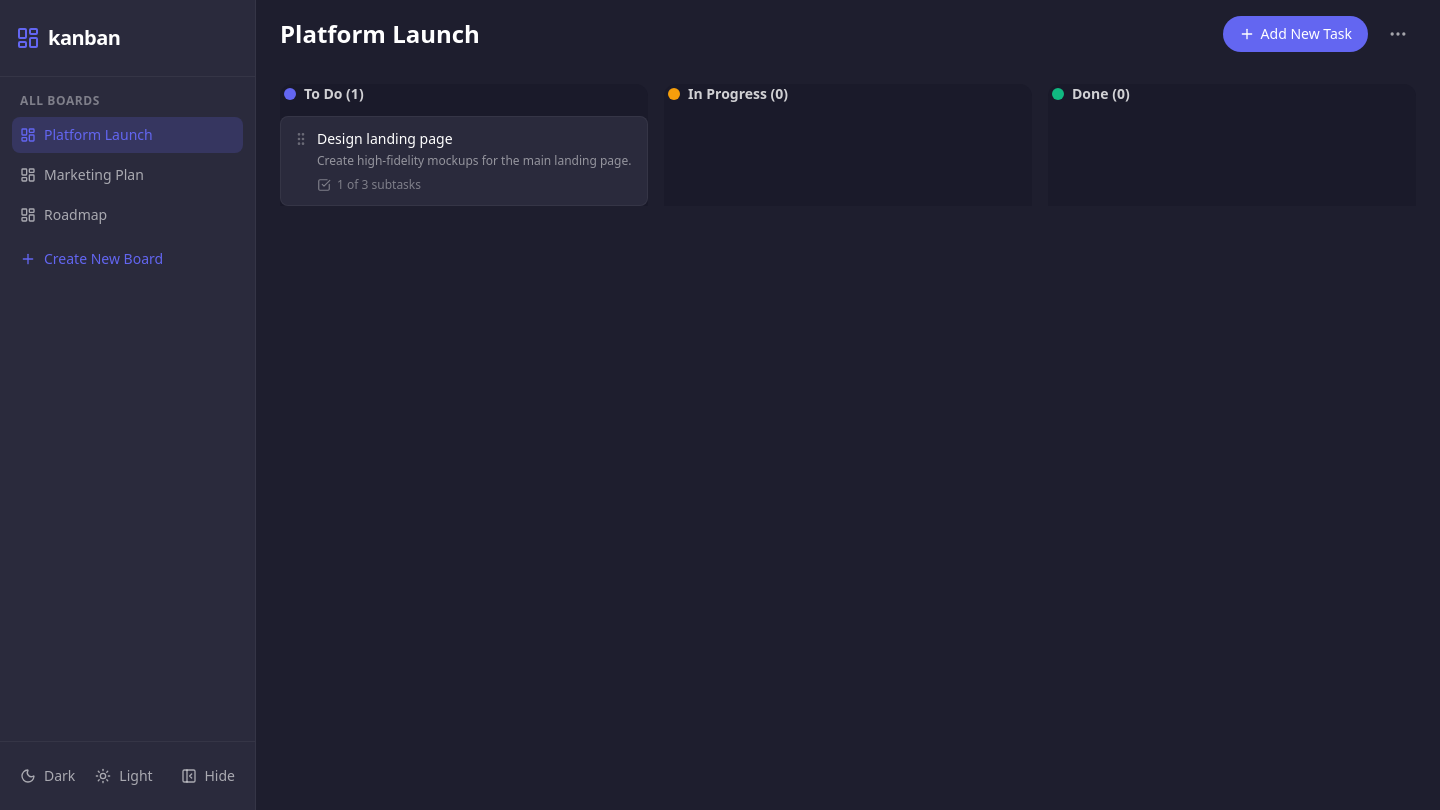
it: App › switches boards when clicked
The width and height of the screenshot is (1440, 810).
Click the button "Marketing Plan" at (128, 175), box [12,157,243,193]
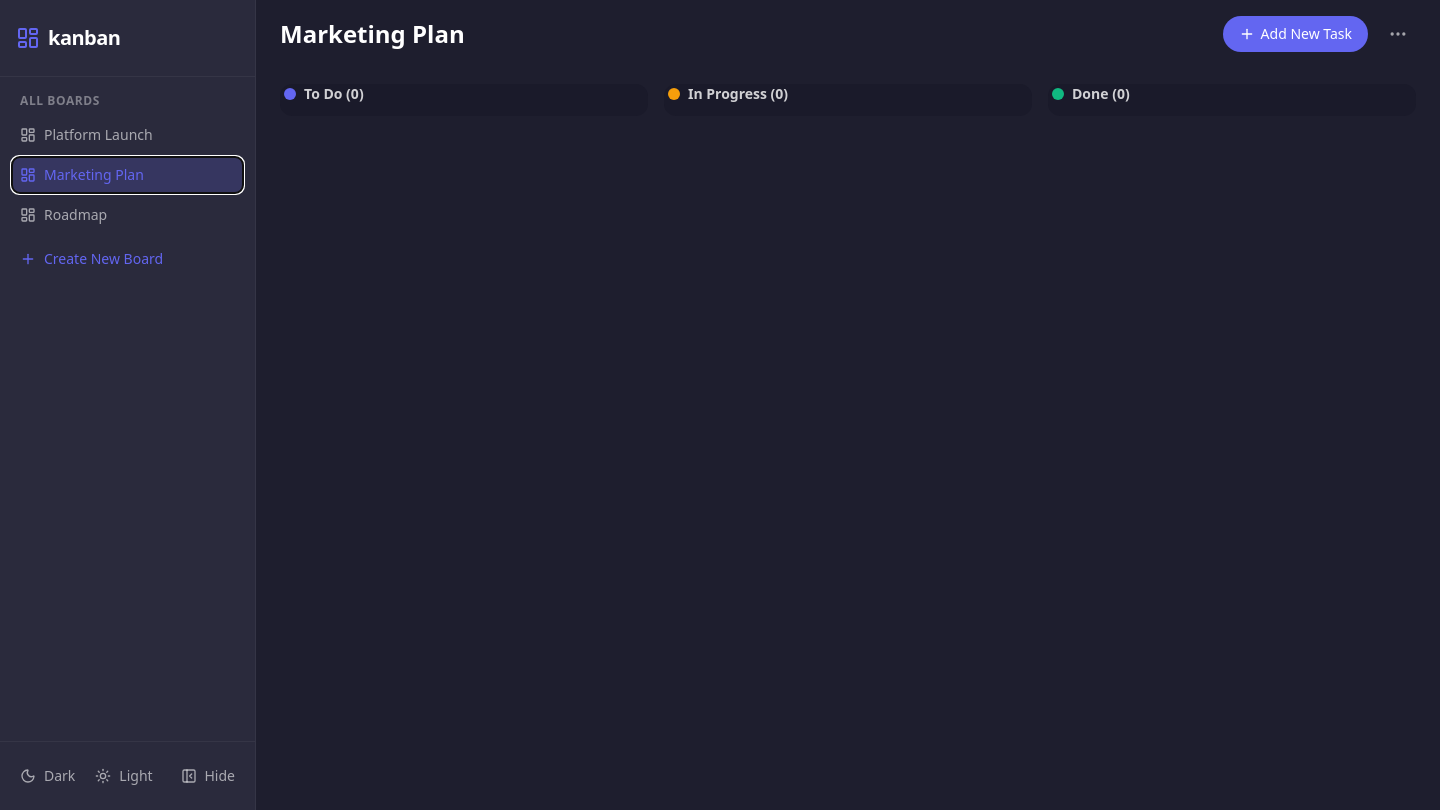
Expected: the heading "Marketing Plan" is shown, [280,18,465,50]
